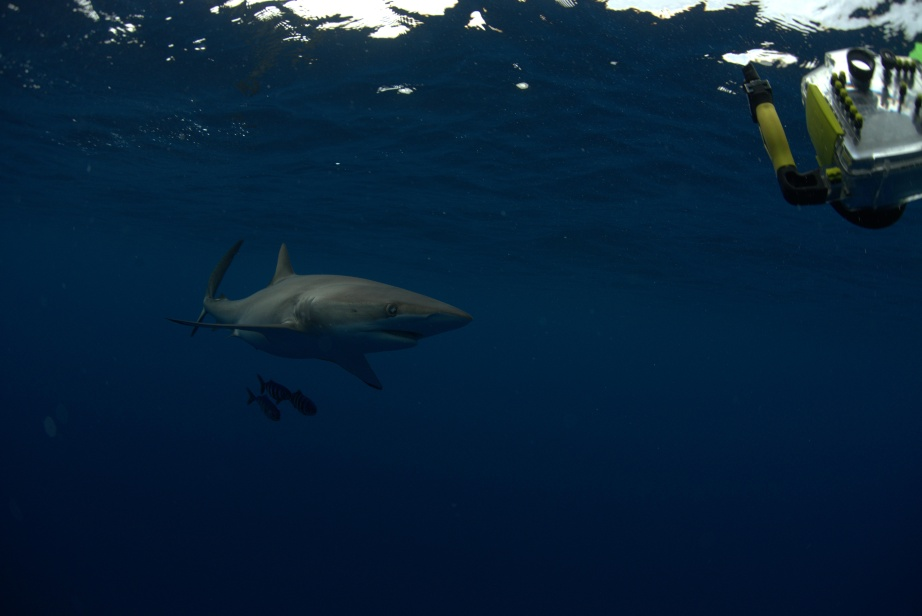Sedoso: (98, 222, 477, 403)
